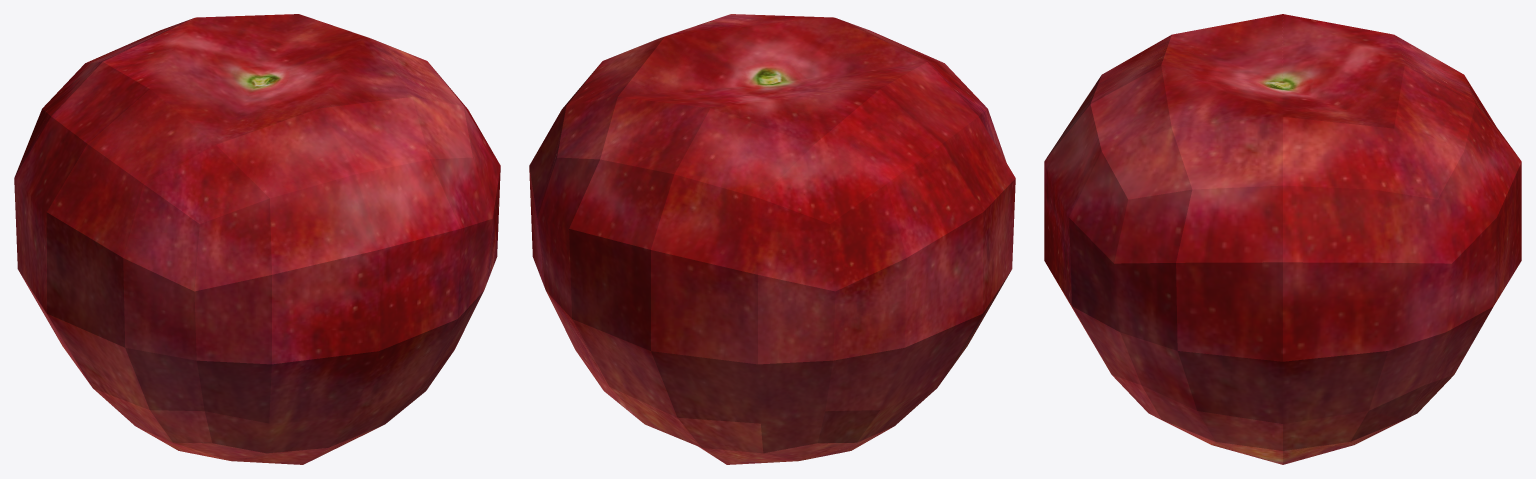
The model's file is apple.fbx.
The picture shows the model from 3 angles, left to right: view 1: azimuth 30°, elevation 25°; view 2: azimuth 150°, elevation 25°; view 3: azimuth 270°, elevation 25°; orthographic projection.
Visible parts, largest first — view 1: apple.004, apple.003, apple.001, apple.002; view 2: apple.001, apple.002, apple.004, apple.003; view 3: apple.003, apple.002, apple.004, apple.001.
Part boxes in pixels (x1,y1,x2,y2): apple.004: (46, 83, 378, 464); apple.003: (258, 37, 500, 463); apple.001: (14, 17, 256, 385); apple.002: (196, 14, 415, 82); apple.001: (651, 83, 983, 464); apple.002: (529, 37, 771, 461); apple.004: (773, 17, 1015, 385); apple.003: (614, 14, 833, 82); apple.003: (1044, 65, 1282, 464); apple.002: (1283, 65, 1521, 464); apple.004: (1045, 14, 1282, 159); apple.001: (1283, 14, 1519, 158).
Bounding box in the file's own units: 0.9238 × 0.7723 × 0.9238.
